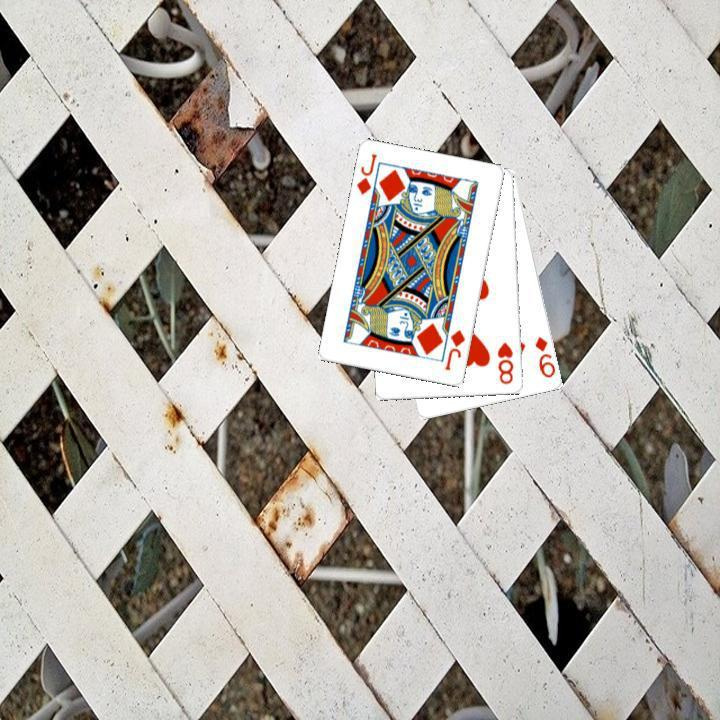8: (493, 338, 516, 386)
9: (531, 332, 557, 380)
J: (440, 325, 468, 373), (352, 150, 379, 197)
